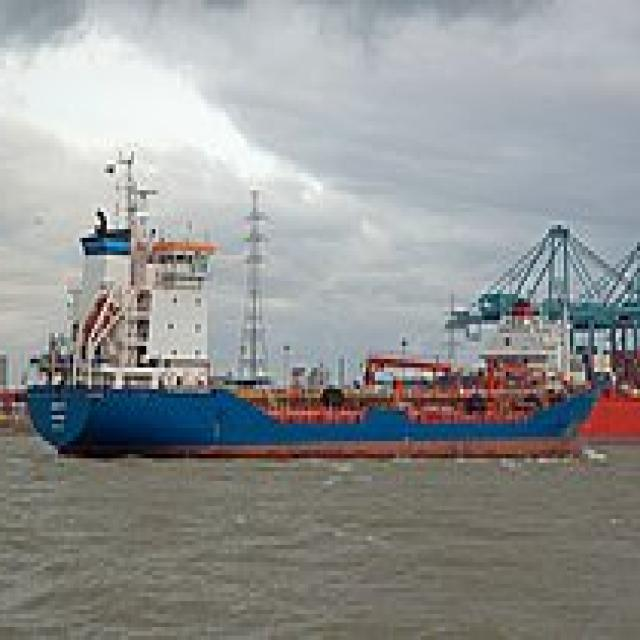Tanker: (28, 147, 606, 454)
